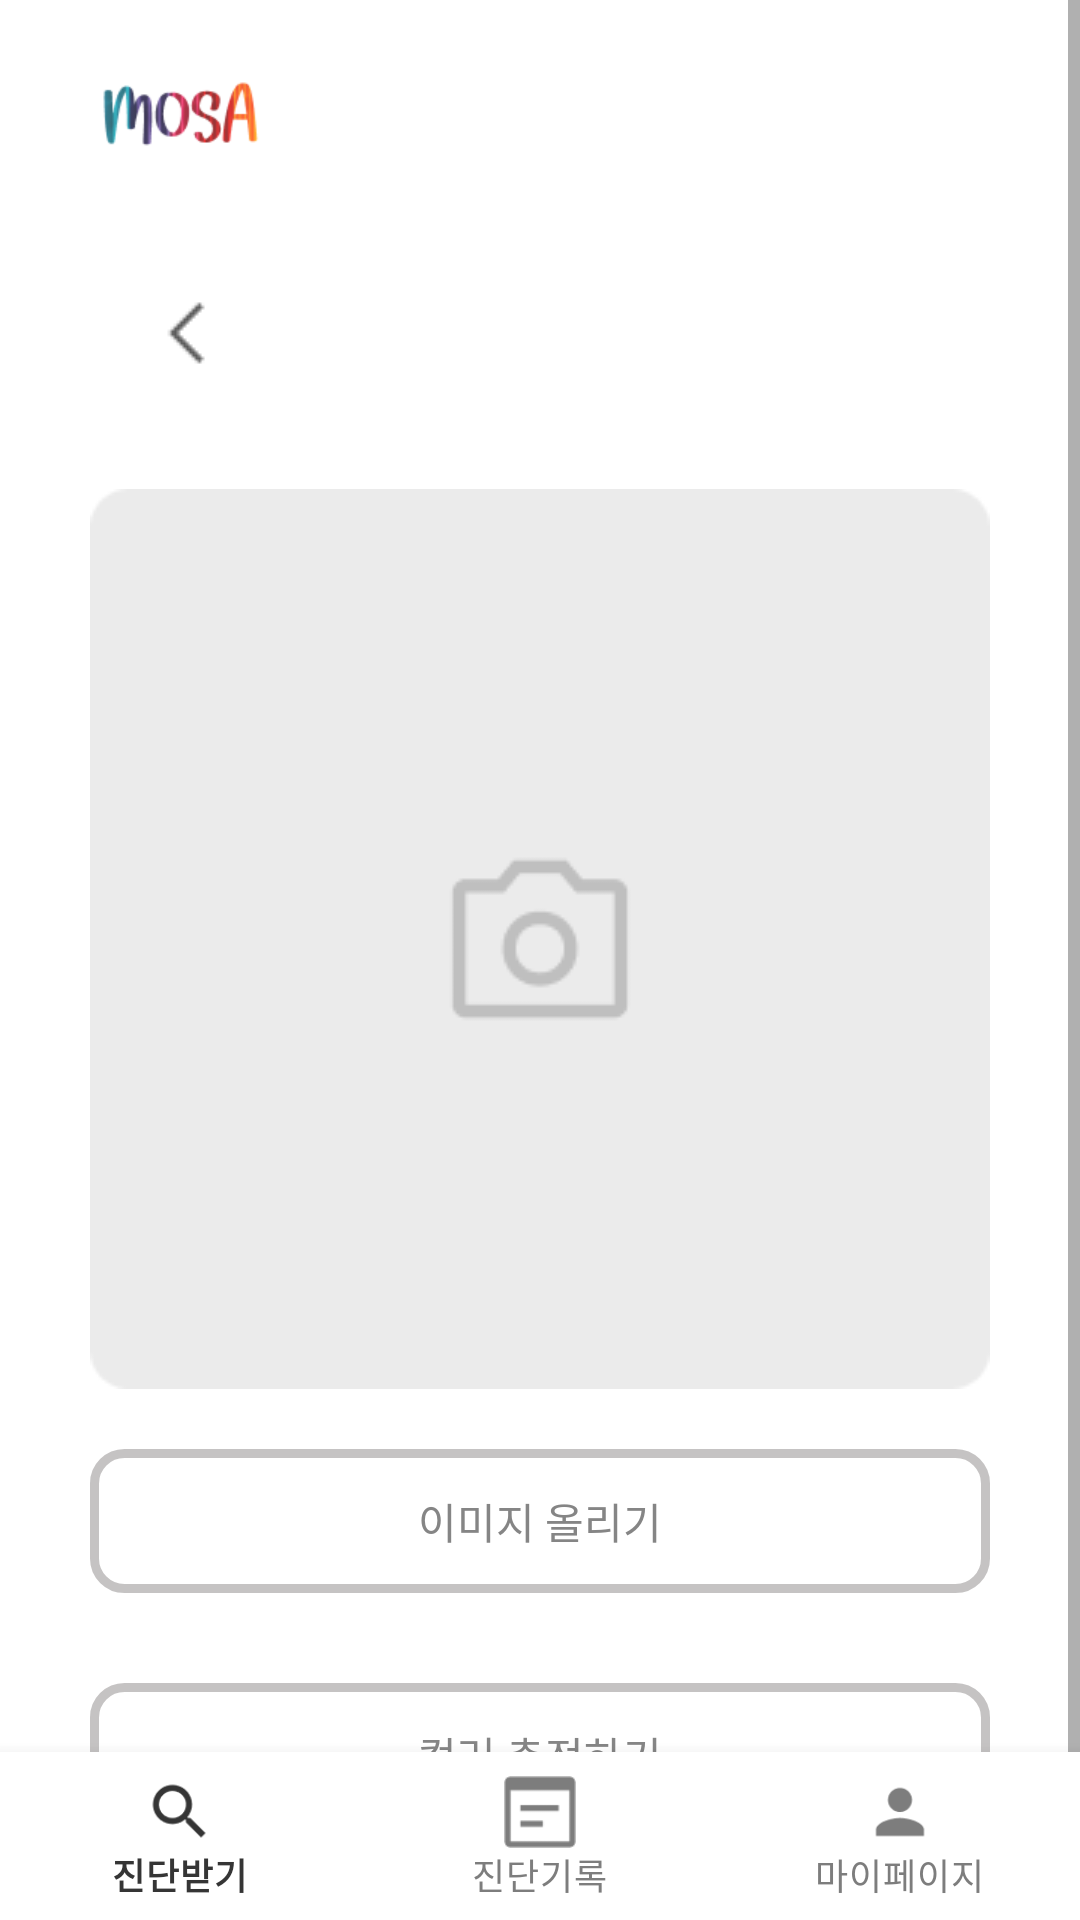

Icon click points for this 1080w x 1920h phone screenshot, format [x,y]:
arrow back: [187,333]
